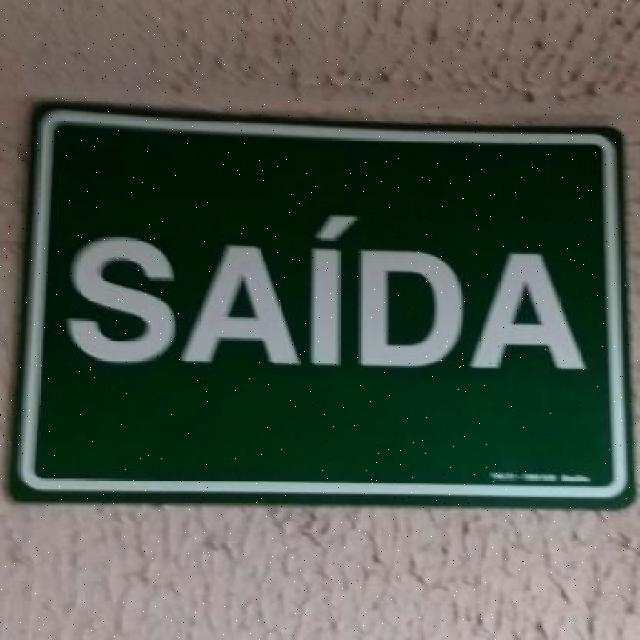emergency_exit: (10, 101, 633, 508)
